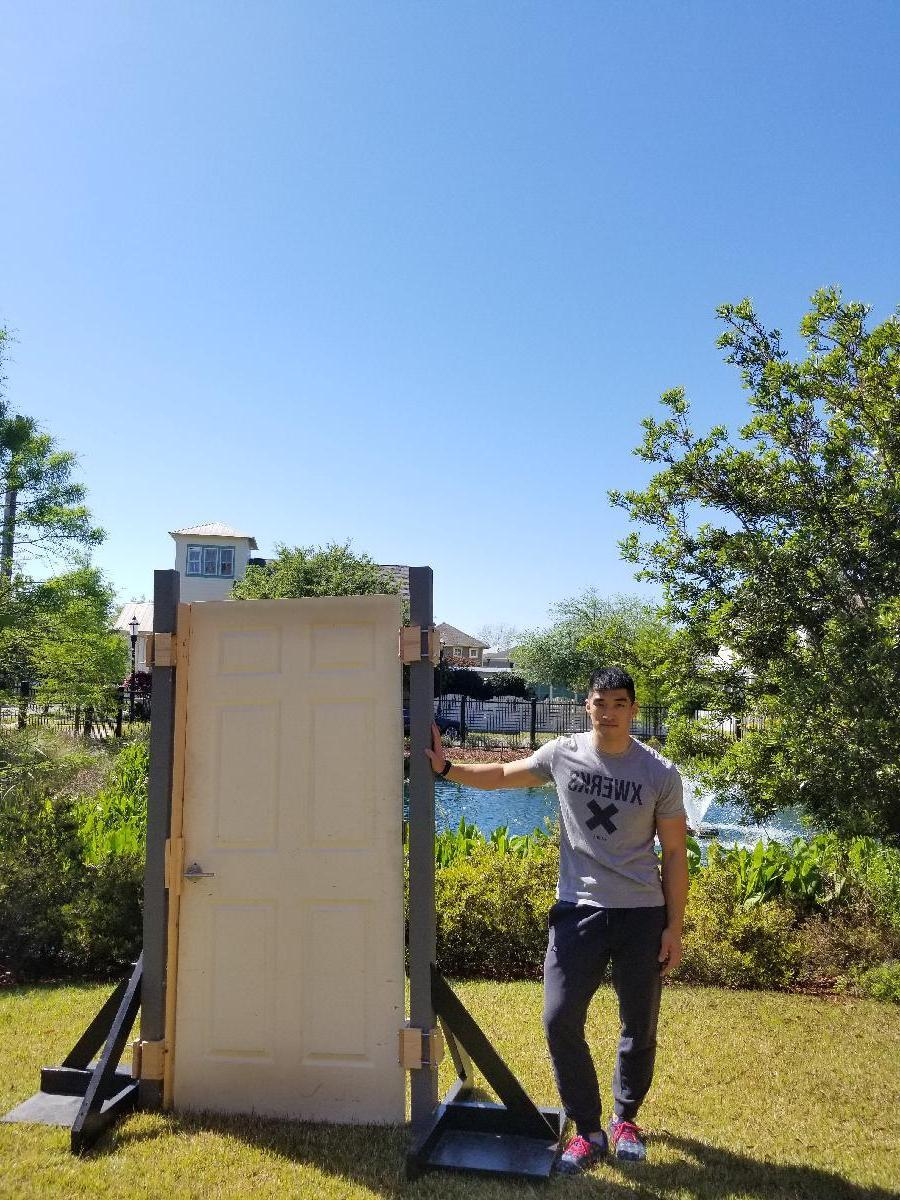door: (160, 591, 406, 1128)
handle: (181, 860, 218, 885)
